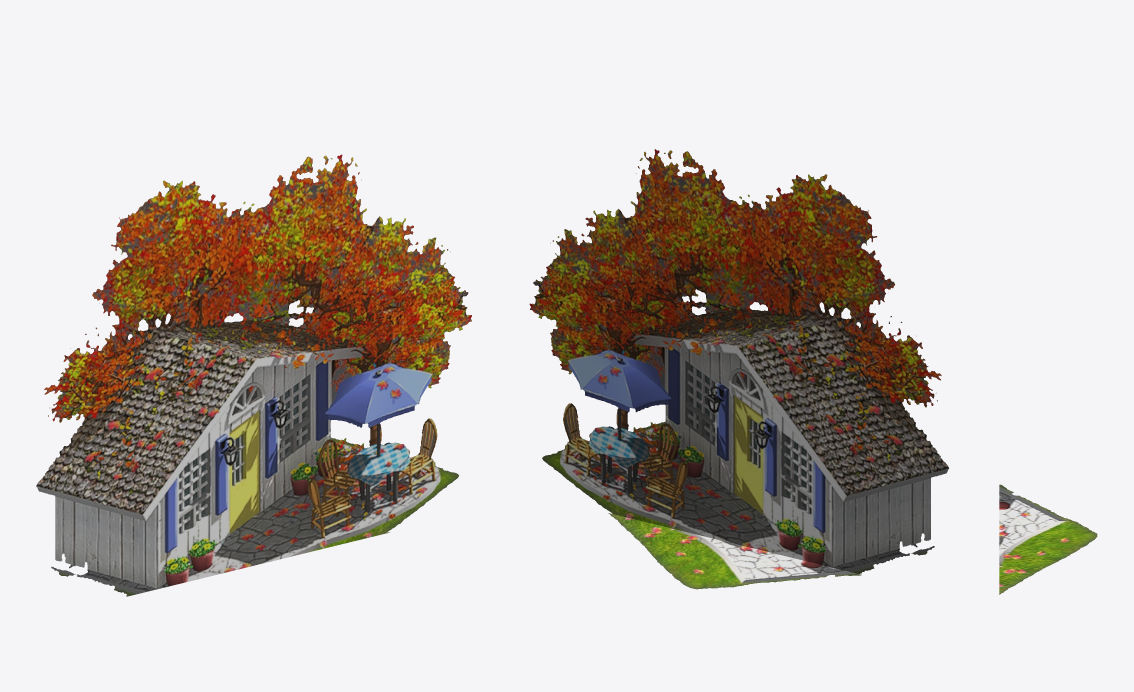
File: mapinteg.fbx
3 renders of one model, left to right at view 1: azimuth 30°, elevation 25°; view 2: azimuth 150°, elevation 25°; view 3: azimuth 270°, elevation 25°, orthographic. The views are drawn at different scales.
Parts seen in each view (by area): view 1: Cube; view 2: Cube; view 3: Cube.
Boxes of the visible parts, <box> form: Cube: <box>36,154,471,596</box>; Cube: <box>529,149,948,589</box>; Cube: <box>999,484,1097,594</box>.
Size of the model in its own units: 200 by 222 by 51.41.
1 material, 1 textured.
